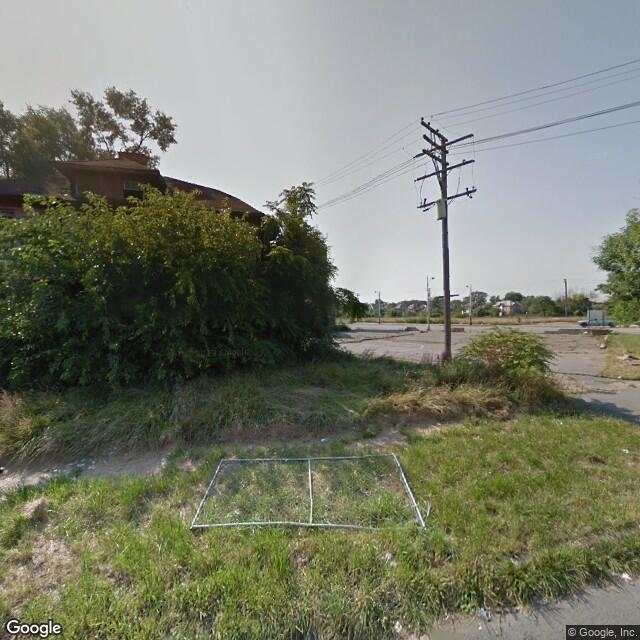litter: (185, 451, 431, 539), (617, 442, 634, 457), (616, 569, 634, 583), (318, 432, 332, 445)
